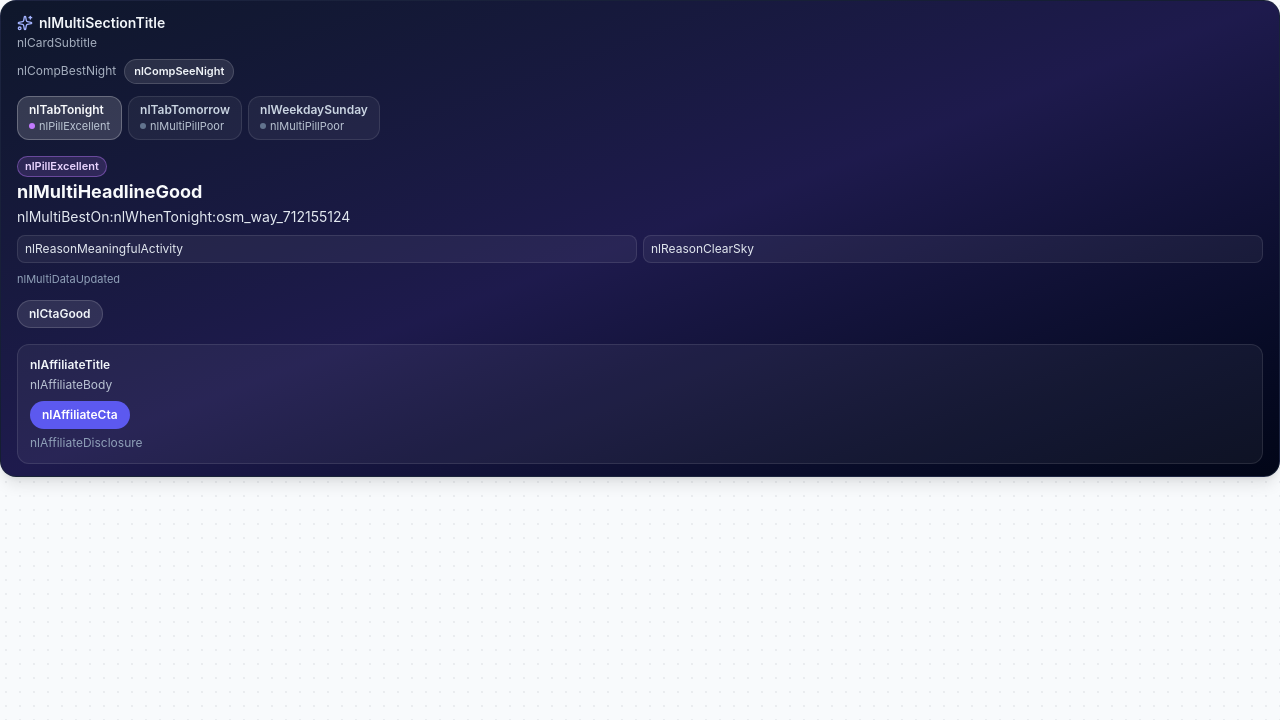
Test: NorthernLightsThreeNight — analytics › northern_lights_best_night_viewed's selected_date names the RECOMMENDED night, never whichever tab the user happens to be viewing
The width and height of the screenshot is (1280, 720).
Click the button "nlTabTomorrow nlMultiPillPoor".
click(185, 118)  # box [128,96,242,140]
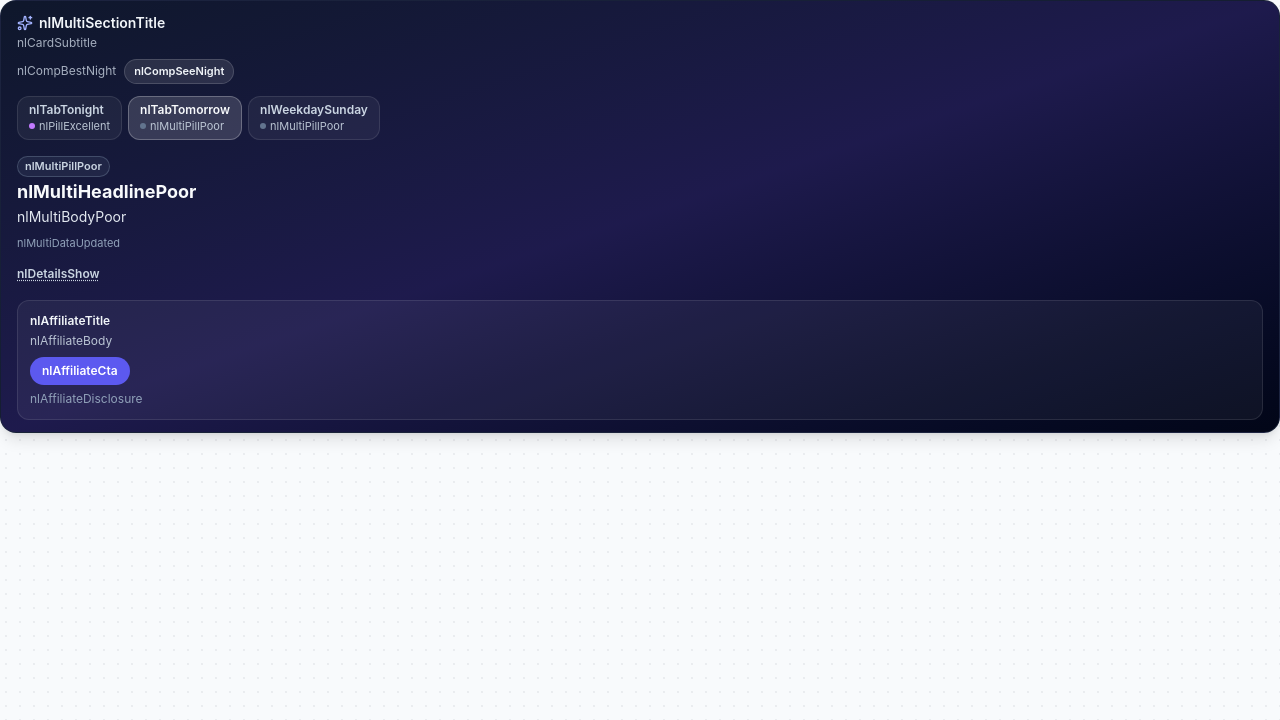
Check: the element with test id "nl3-all-poor" is shown, box [17,156,196,282]
